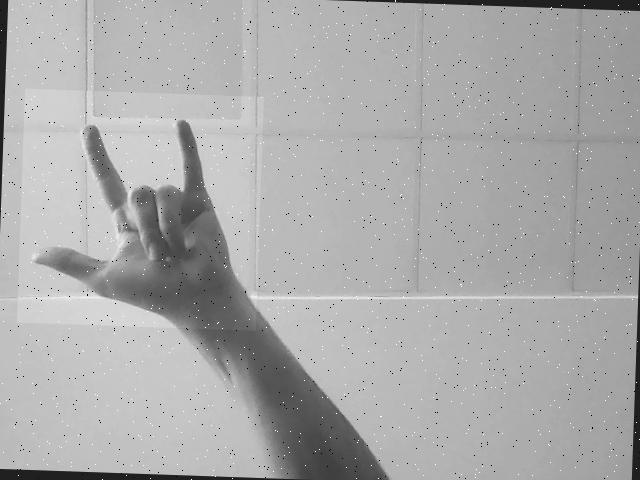I_Love_You: (20, 94, 257, 328)
